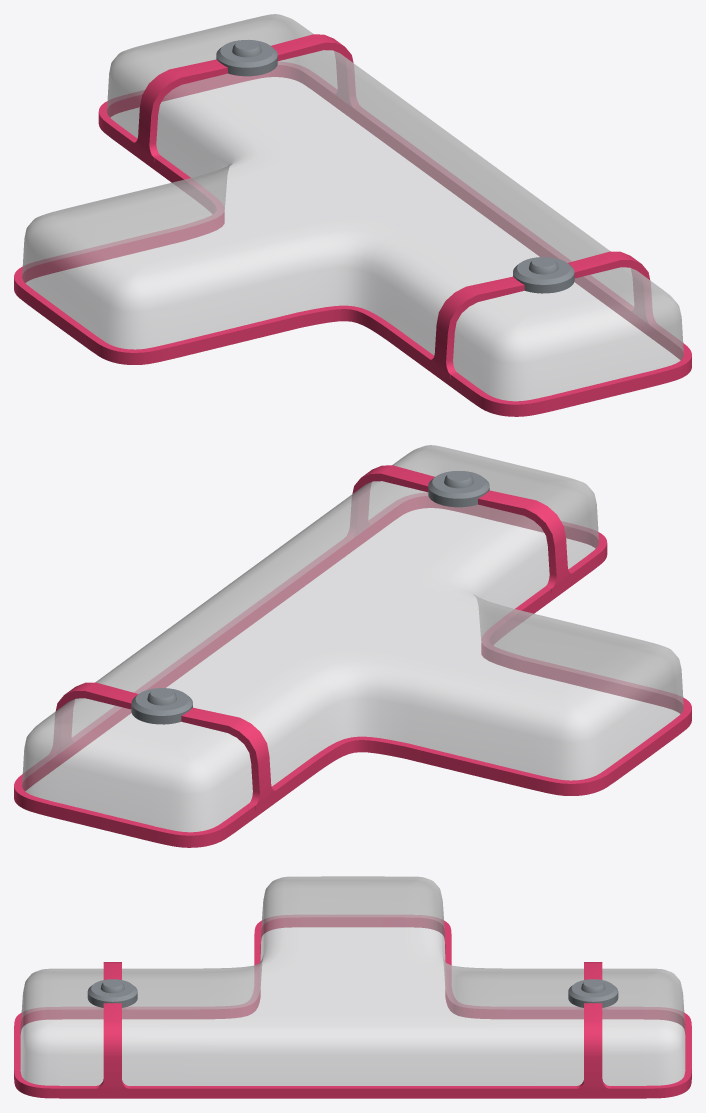
File: hop_T_1.fbx
3 renders of one model, top to bottom at view 1: azimuth 30°, elevation 25°; view 2: azimuth 150°, elevation 25°; view 3: azimuth 270°, elevation 25°, orthographic. The views are drawn at different scales.
Parts seen in each view (by area): view 1: Cube.153, Cube.156, Cylinder.124, Cylinder.119; view 2: Cube.153, Cube.156, Cylinder.119, Cylinder.124; view 3: Cube.153, Cube.156, Cylinder.119, Cylinder.124.
Boxes of the visible parts, x1,y1,x2,y2 form: Cube.153: (22,14,683,401); Cube.156: (14,34,691,416); Cylinder.124: (513,257,574,293); Cylinder.119: (216,39,277,76); Cube.153: (22,445,683,832); Cube.156: (14,465,691,847); Cylinder.119: (131,688,192,724); Cylinder.124: (428,470,489,507); Cube.153: (20,876,685,1085); Cube.156: (14,915,691,1098); Cylinder.119: (568,979,618,1007); Cylinder.124: (87,979,137,1007).
Bounding box in the file's own units: 377 × 75 × 621.
